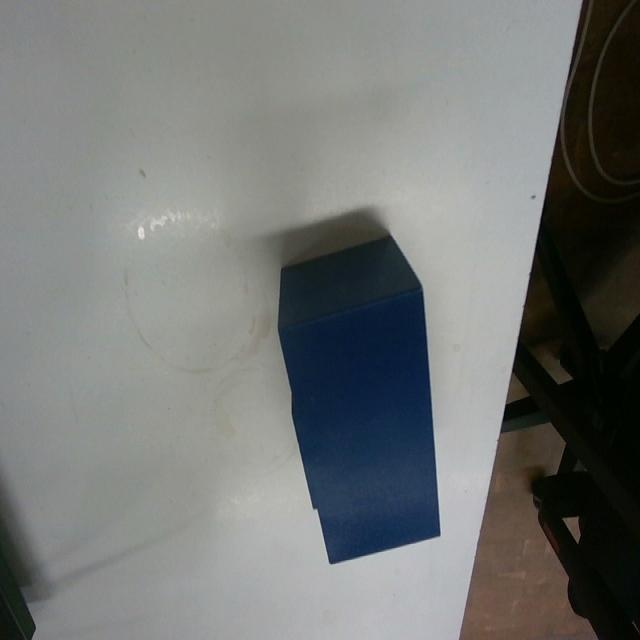Blue Cuboid: (275, 230, 443, 566)
